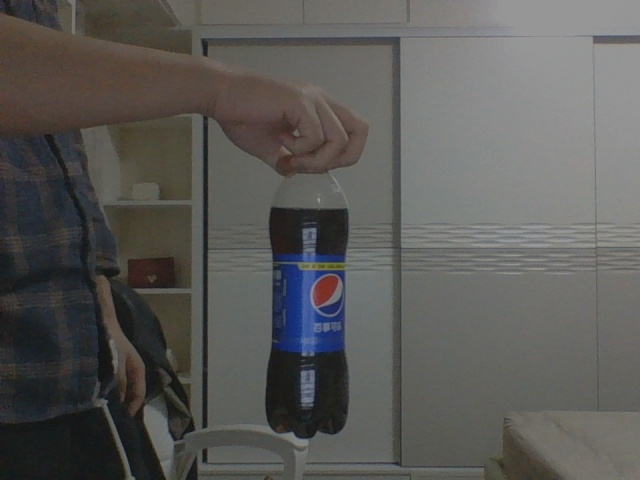Cola: (264, 165, 350, 437)
